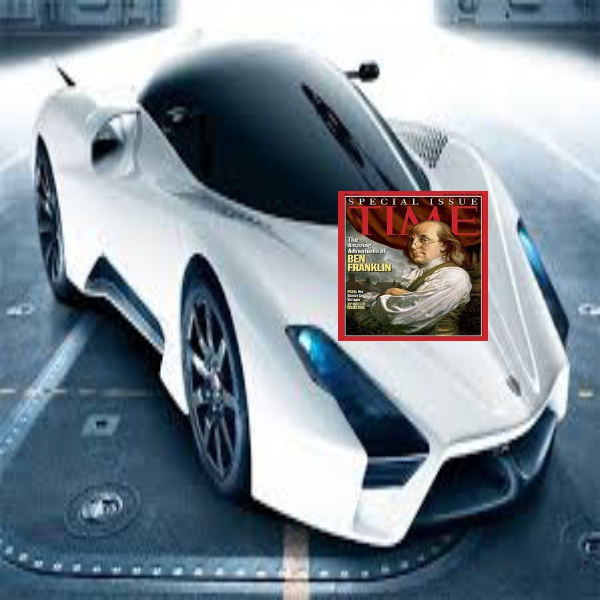time_cover: (333, 185, 491, 345)
